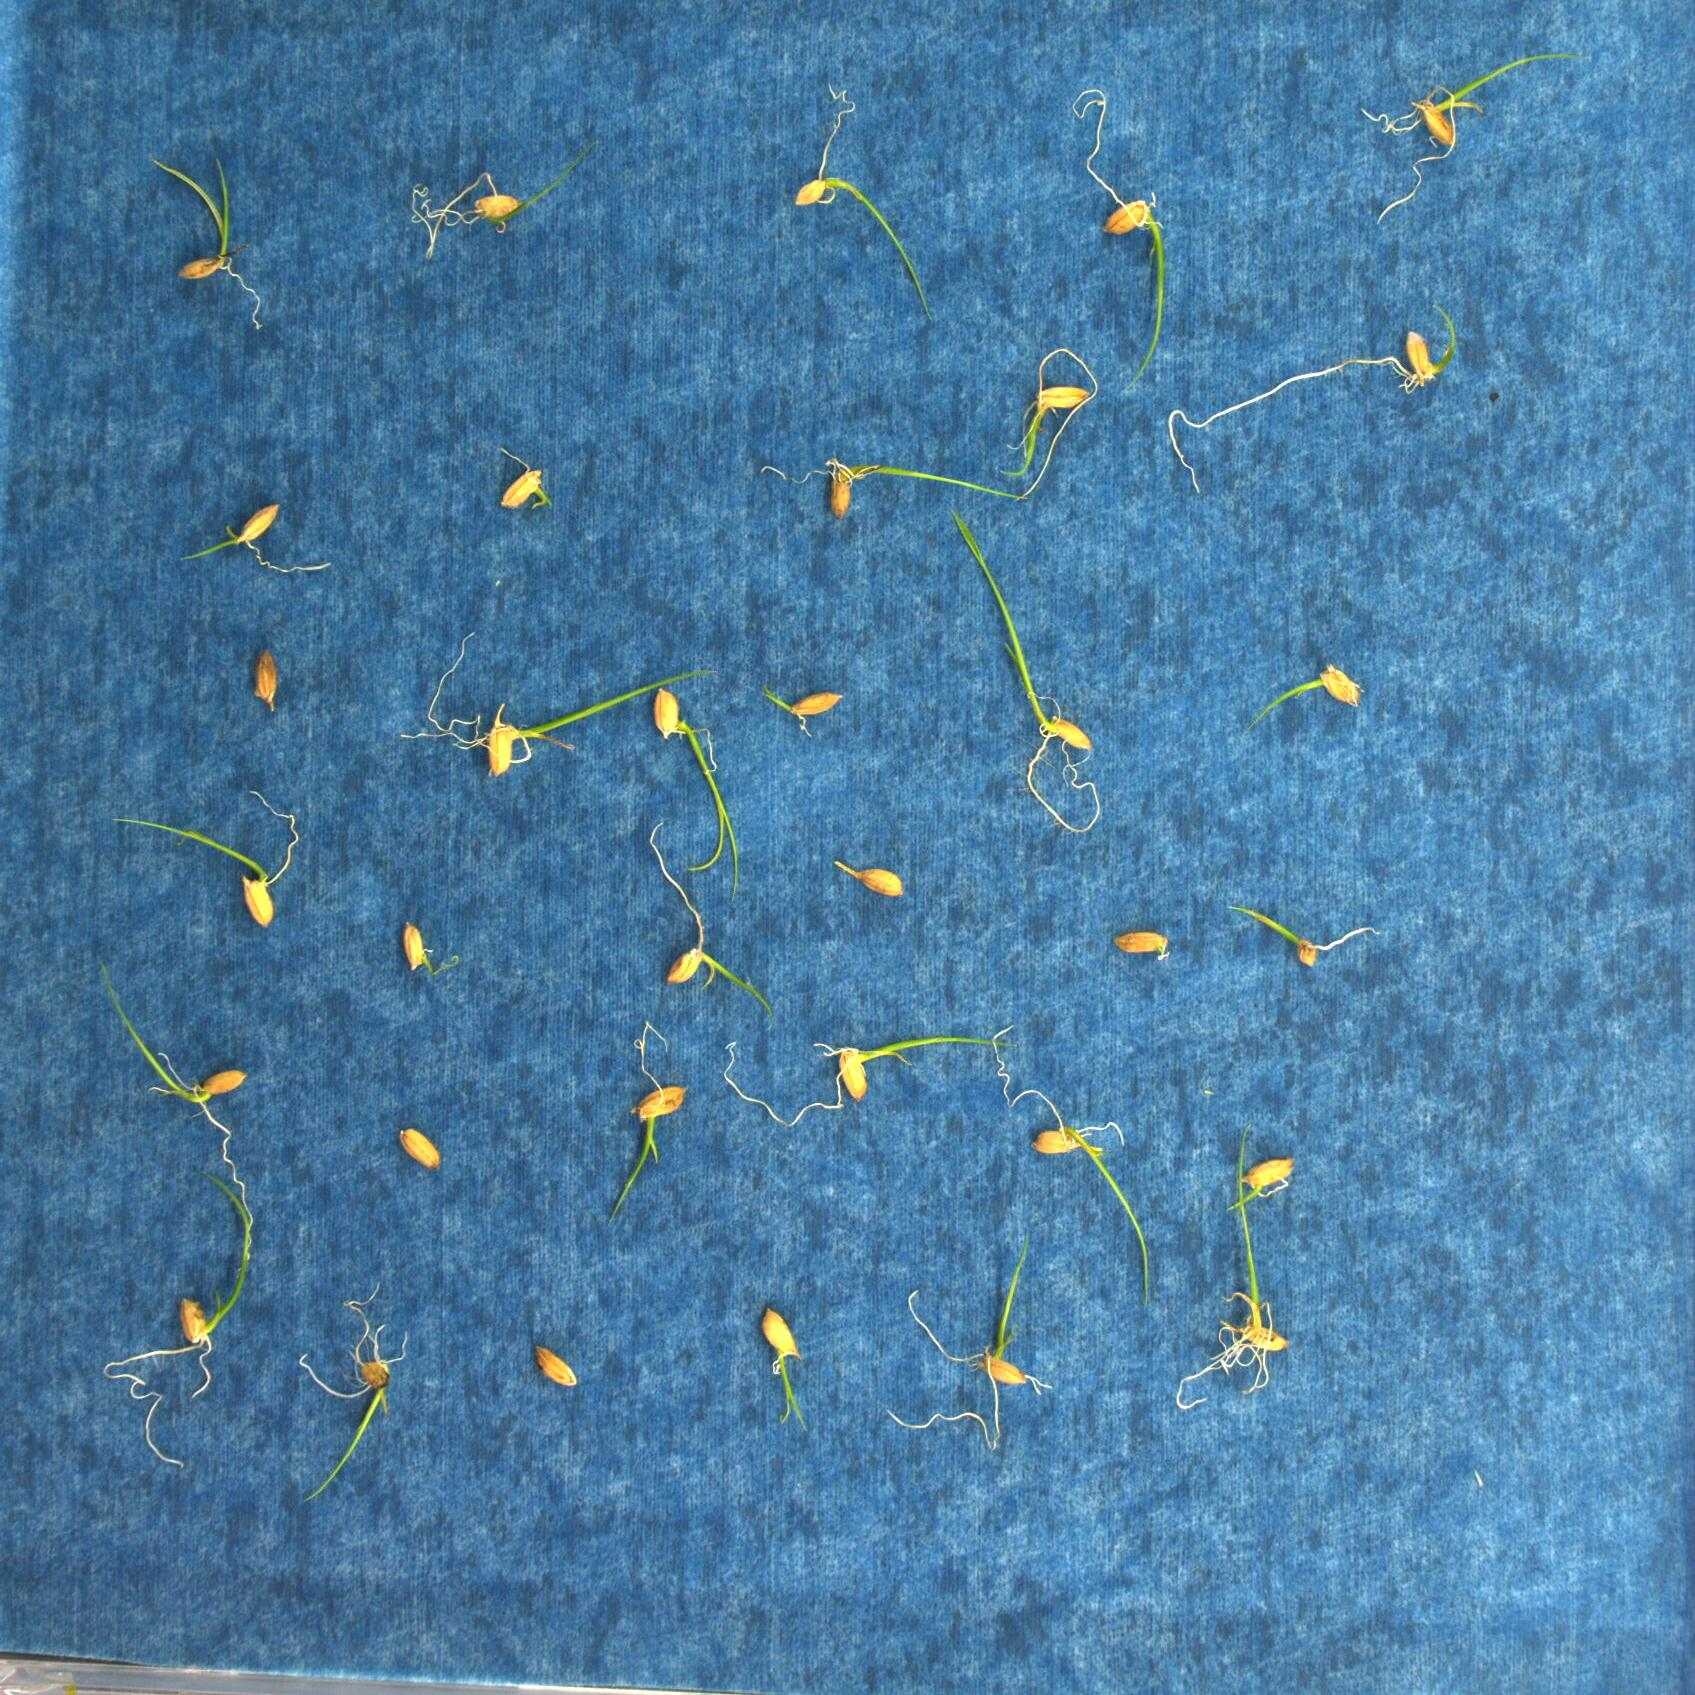not sprout: (394, 1128, 445, 1173), (531, 1346, 581, 1391), (251, 650, 286, 716), (400, 917, 433, 984), (1108, 927, 1170, 961)
sprout: (1167, 304, 1458, 492), (953, 503, 1105, 840), (989, 1024, 1153, 1309), (99, 958, 255, 1256), (399, 629, 705, 779), (102, 1177, 244, 1468), (1360, 50, 1585, 220), (879, 1245, 1052, 1448), (1172, 1127, 1288, 1416), (796, 85, 933, 324), (1073, 82, 1166, 393), (723, 1031, 1017, 1119), (652, 816, 778, 1010), (116, 789, 296, 924), (300, 1276, 408, 1499), (407, 143, 601, 255), (647, 685, 740, 899), (147, 155, 261, 331), (607, 1017, 692, 1220), (761, 456, 1024, 522), (1009, 348, 1101, 508), (175, 500, 332, 571), (1228, 900, 1380, 972), (1246, 660, 1361, 726), (754, 1302, 812, 1433), (1212, 1133, 1293, 1211), (765, 688, 841, 737), (497, 445, 549, 512), (827, 855, 900, 900)
